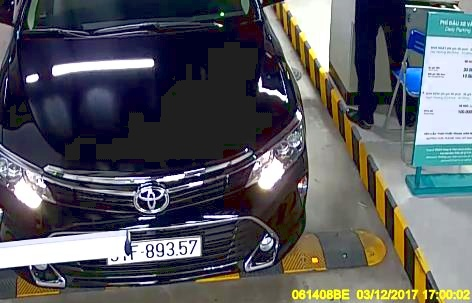plate: (107, 239, 209, 263)
